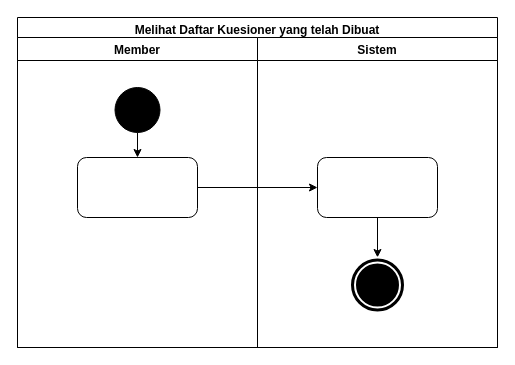
The diagram is 515 pixels wide and 365 high, and some of its shapes have lost their labels. Each missing label, with the centre of its shape:
"Membuka halaman dashboard" goes at (x=137, y=187).
"Menampilkan daftar kuesioner yang telah dibuat" goes at (x=377, y=187).
